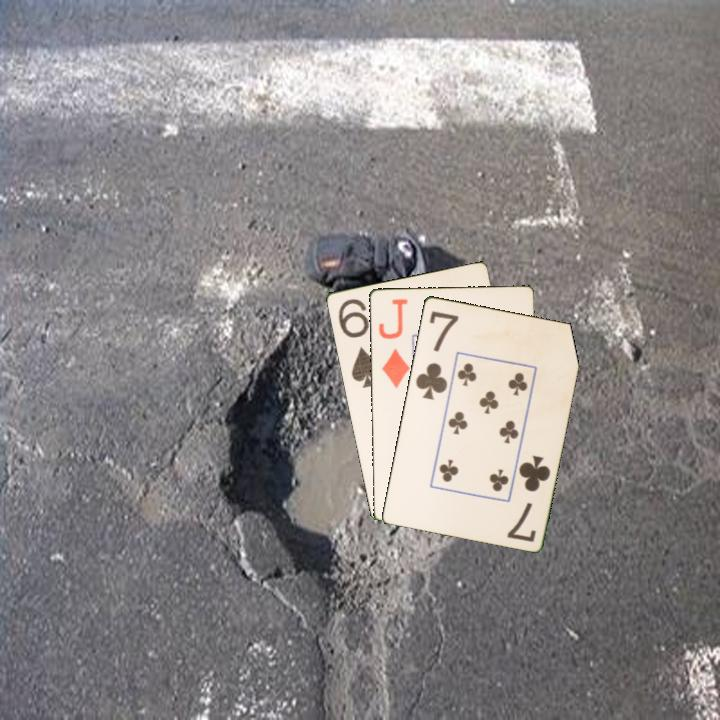6s: (334, 295, 383, 390)
7c: (412, 307, 461, 403), (503, 451, 553, 545)
Jd: (375, 295, 412, 391)
